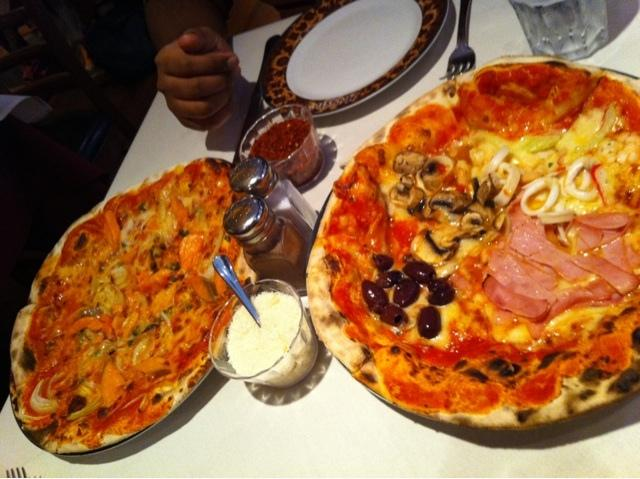mushroom: (410, 224, 470, 268), (464, 202, 503, 243), (418, 155, 454, 194), (388, 186, 424, 209), (392, 152, 427, 174), (430, 191, 464, 213), (476, 174, 494, 208), (461, 212, 484, 230), (68, 395, 86, 415), (422, 194, 434, 218), (468, 176, 479, 202), (495, 214, 505, 230)
